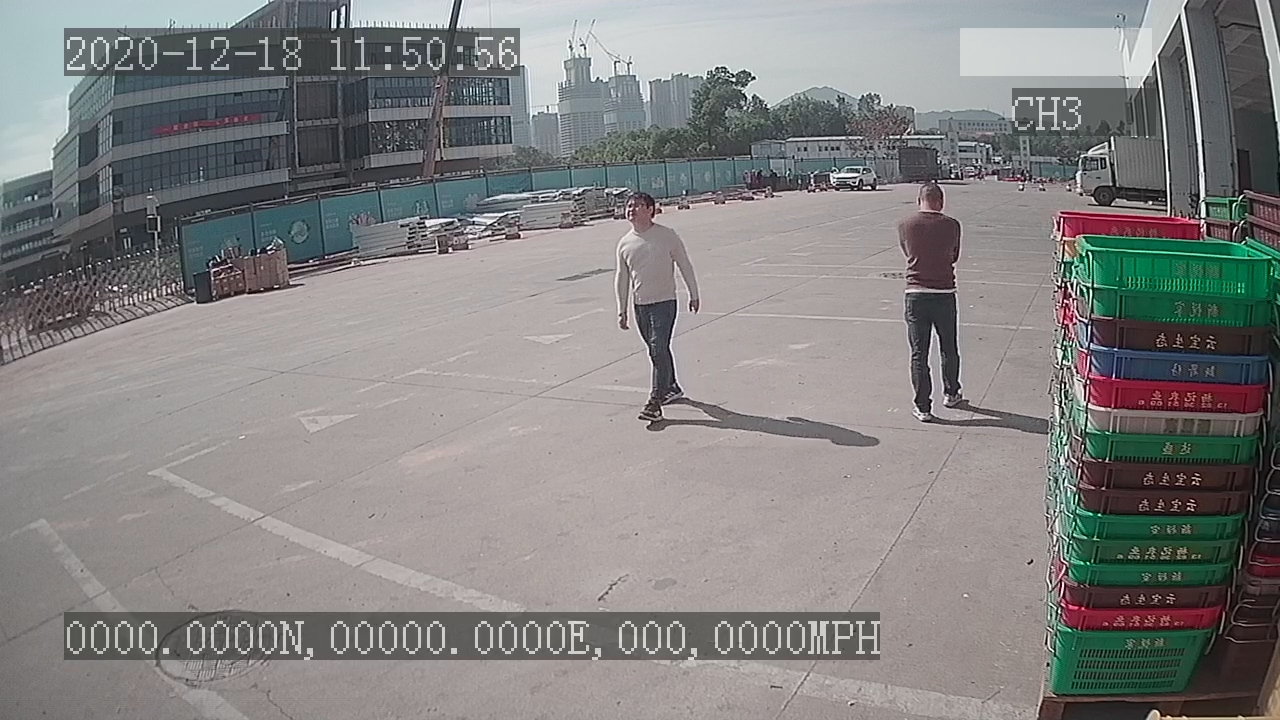person: (608, 188, 704, 435), (895, 177, 968, 429)
